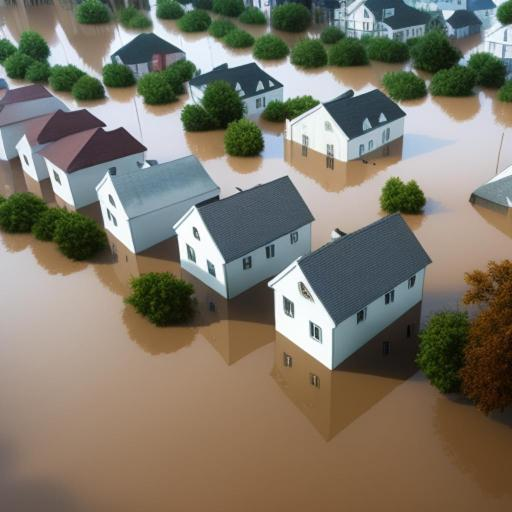flood: (0, 232, 512, 512), (50, 86, 512, 350), (146, 1, 413, 101), (0, 0, 139, 78), (233, 18, 324, 47), (0, 160, 56, 206), (454, 34, 483, 57), (78, 204, 101, 223), (6, 78, 29, 87), (0, 66, 5, 77), (212, 14, 219, 18)
house: (272, 210, 434, 382), (170, 170, 320, 308), (93, 146, 224, 268), (282, 81, 412, 175), (34, 126, 152, 216), (13, 105, 107, 185), (192, 57, 283, 119), (0, 82, 68, 162), (108, 34, 188, 85), (342, 2, 425, 41), (487, 18, 512, 58), (448, 9, 482, 36)
